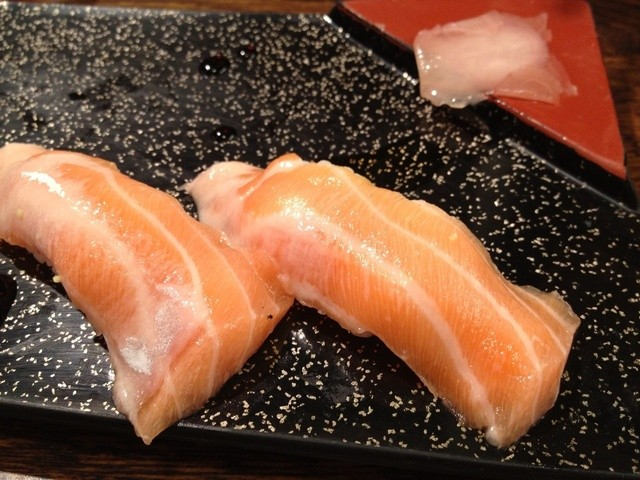salmon: (231, 152, 575, 449), (1, 136, 288, 436)
